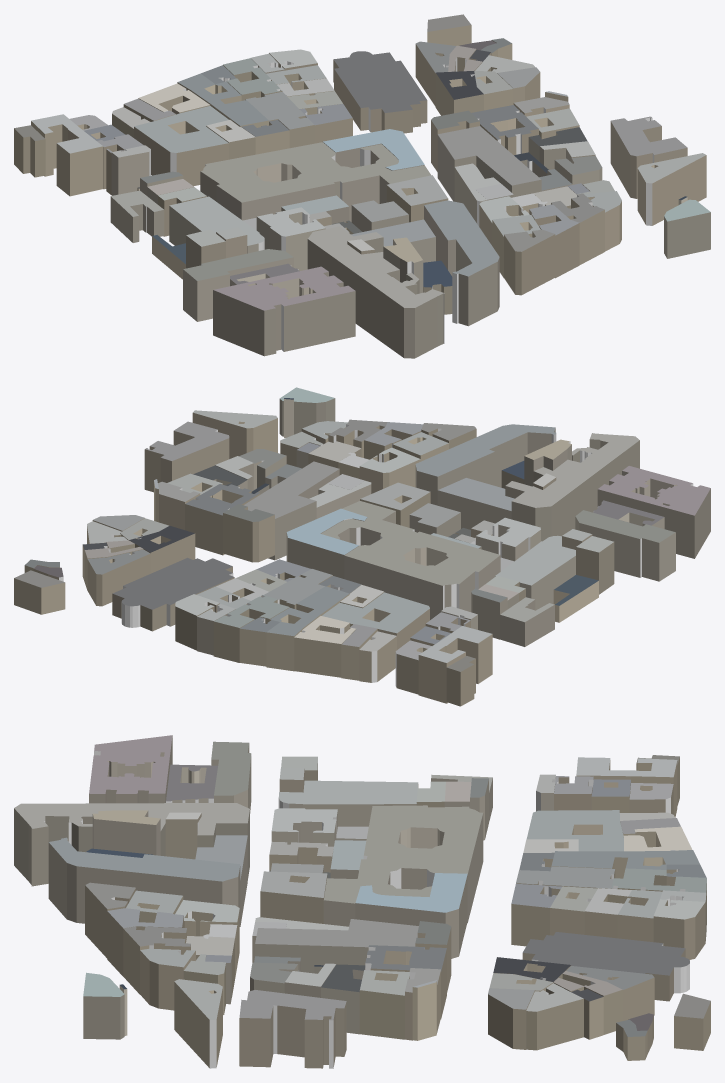
3 views of the same model, one above another, from view 1: azimuth 30°, elevation 25°; view 2: azimuth 150°, elevation 25°; view 3: azimuth 270°, elevation 25° (orthographic). The views are drawn at different scales.
Visible parts, largest first — view 1: tuile; view 2: tuile; view 3: tuile.
Boxes of the visible parts, <box> form: tuile: <box>14,14,710,358</box>; tuile: <box>14,387,710,706</box>; tuile: <box>14,735,710,1068</box>.
Bounding box in the file's own units: 275 × 32.6 × 286.
